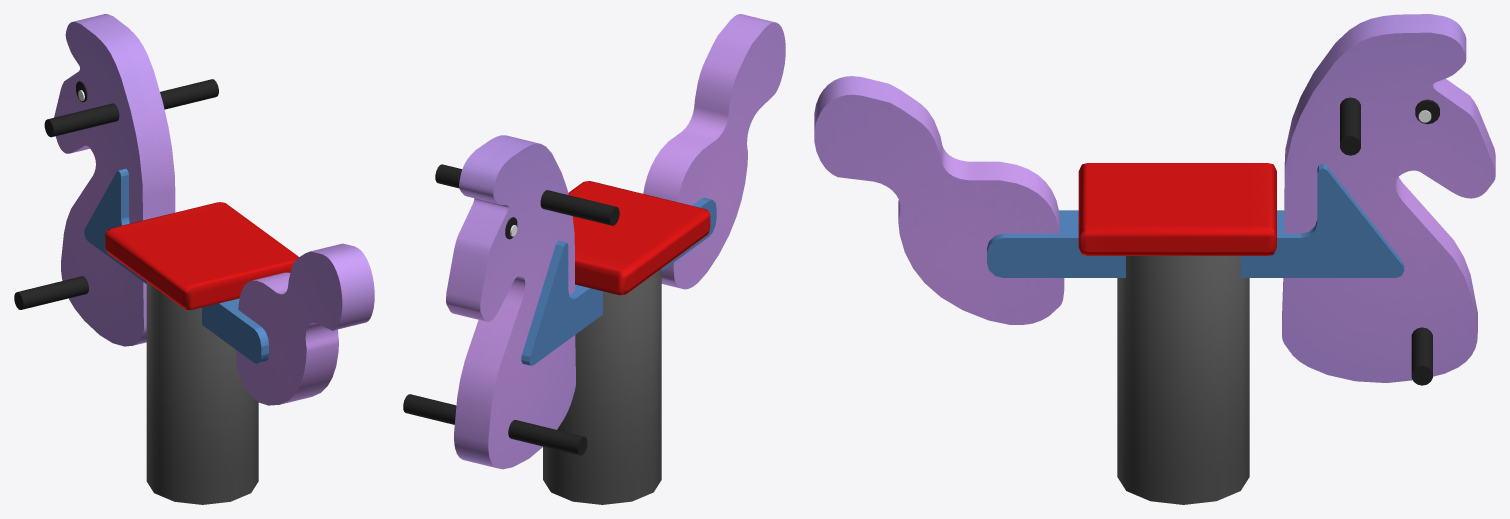
Rendered from ETC0210014.fbx.
The picture shows the model from 3 angles, left to right: view 1: azimuth 30°, elevation 25°; view 2: azimuth 150°, elevation 25°; view 3: azimuth 270°, elevation 25°; orthographic projection. The views are drawn at different scales.
Parts seen in each view (by area): view 1: smETC0210014; view 2: smETC0210014; view 3: smETC0210014.
Boxes of the visible parts, x1,y1,x2,y2 form: smETC0210014: (14,14,374,504); smETC0210014: (403,14,785,504); smETC0210014: (814,14,1495,504).
Size of the model in its own units: 56.44 by 126 by 171.
1 material, 1 textured.
